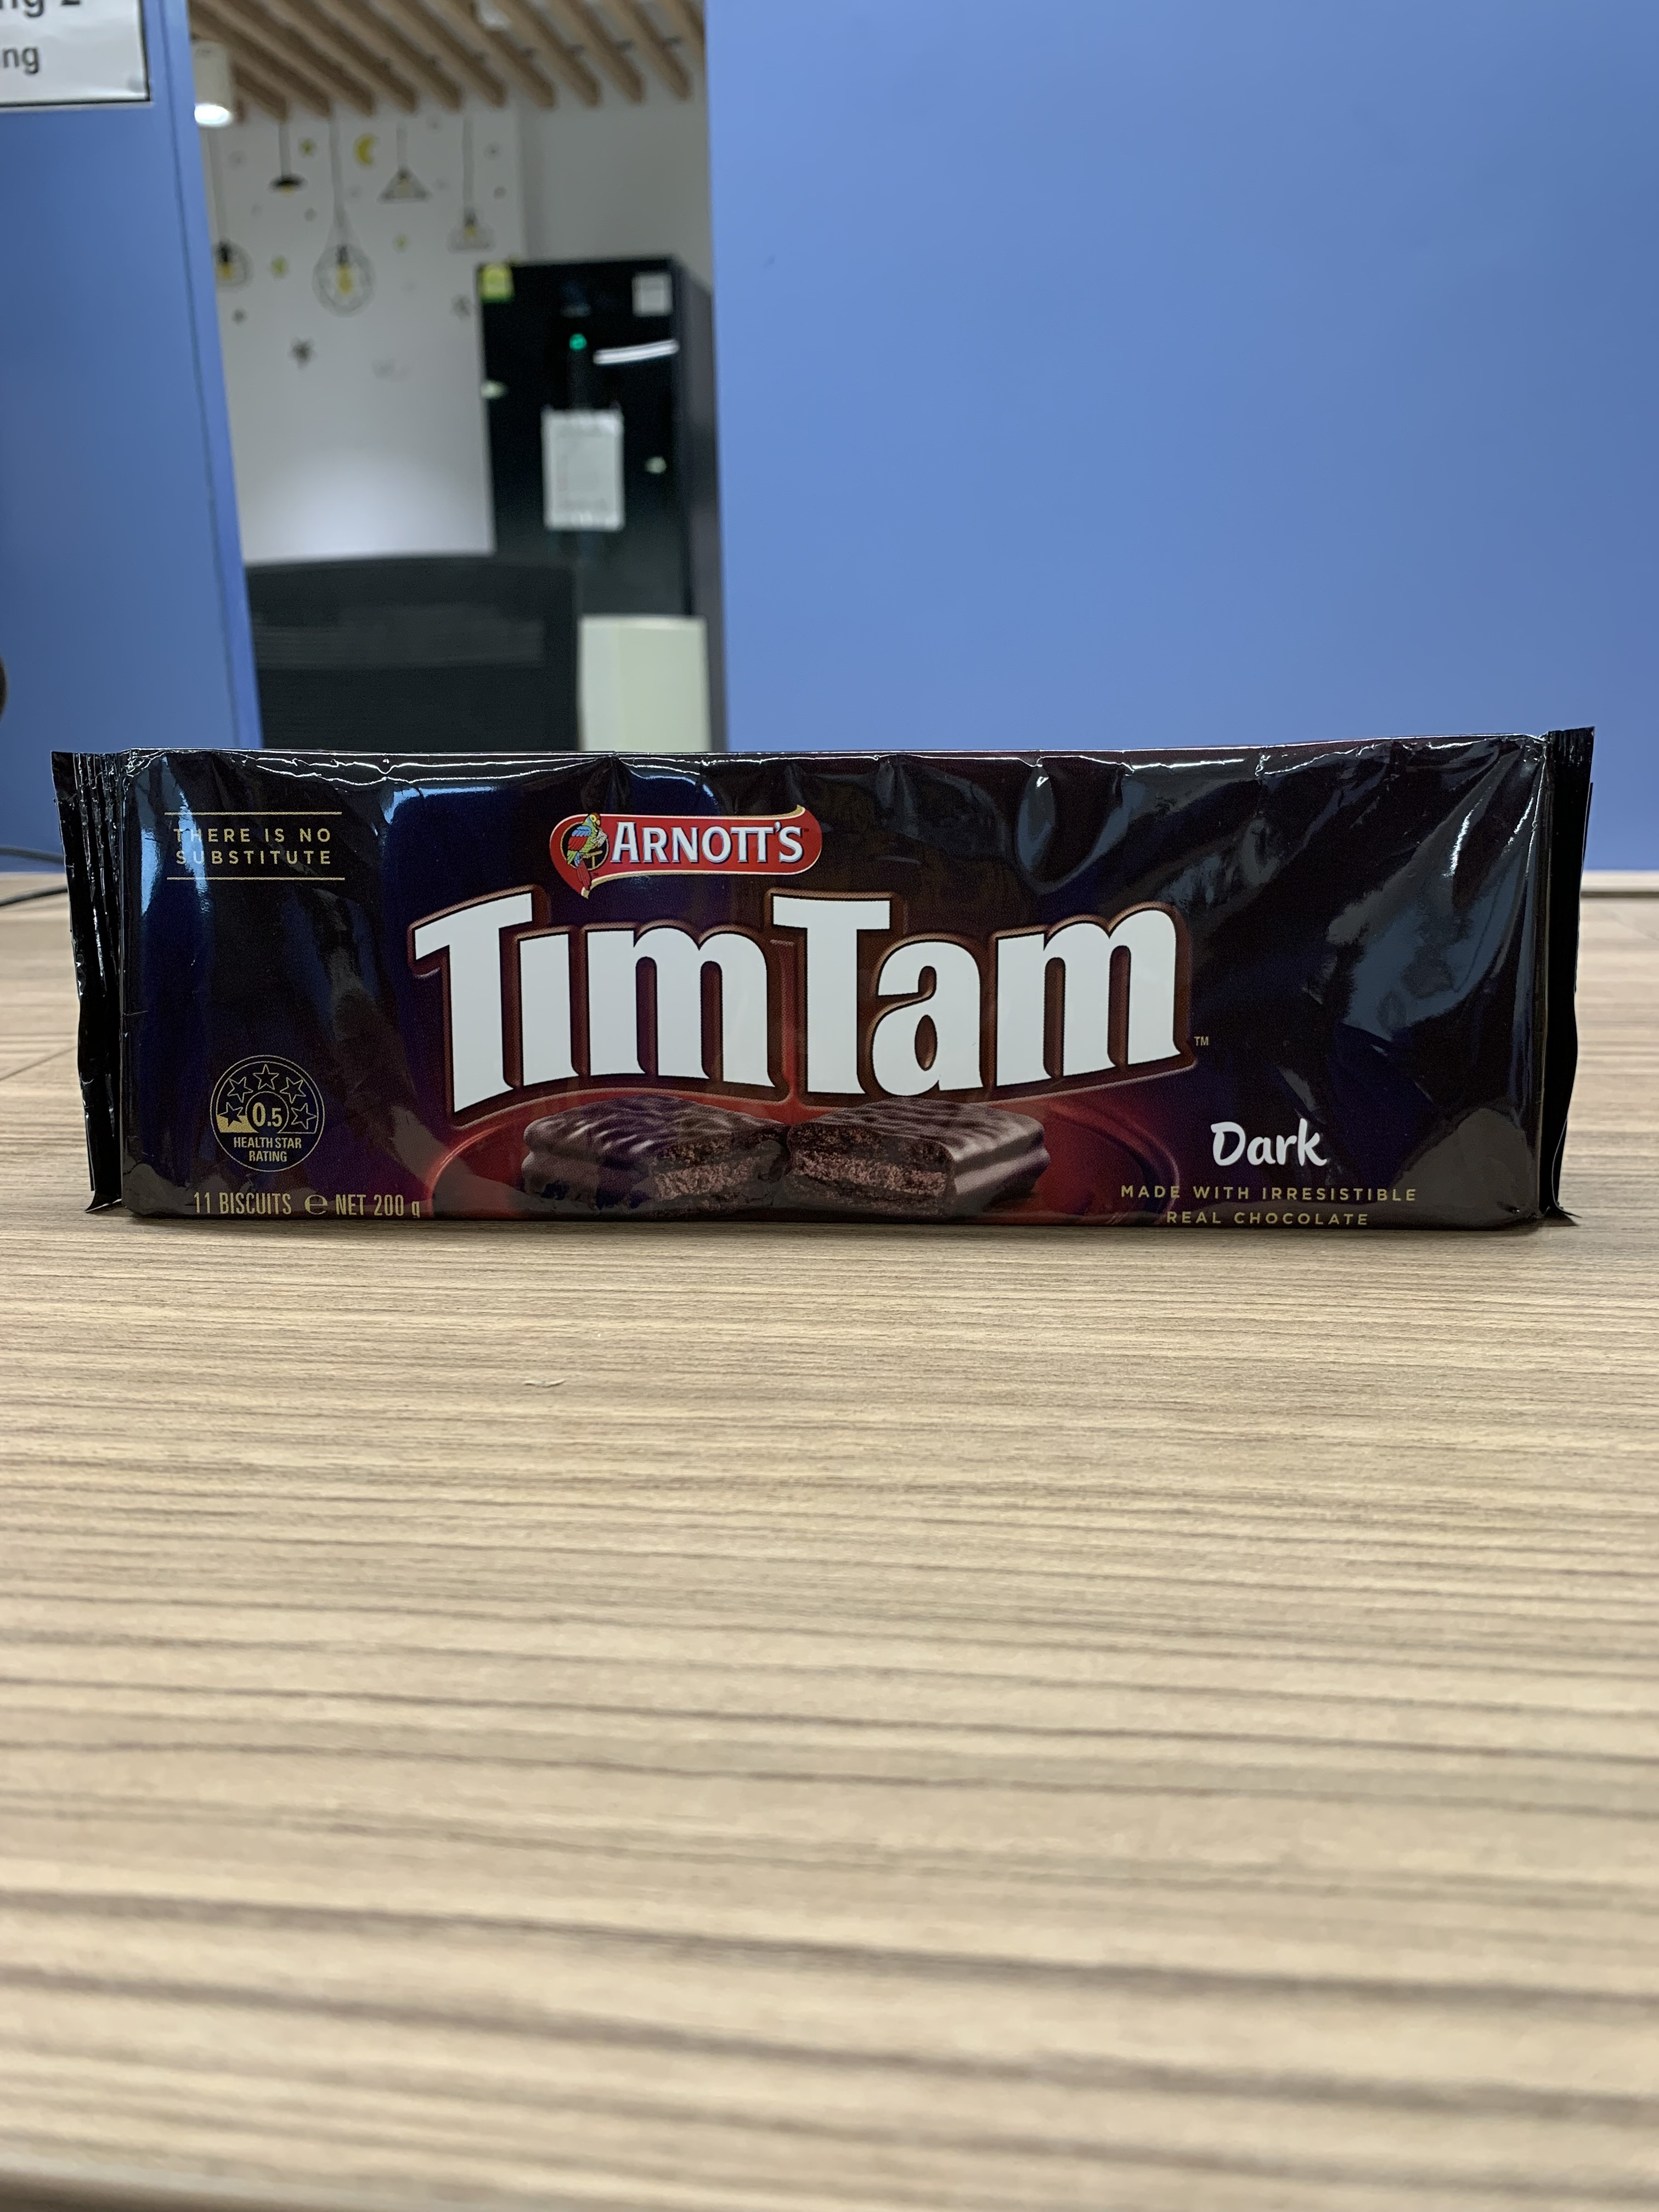cookies_200g-299g: (94, 745, 1537, 1237)
